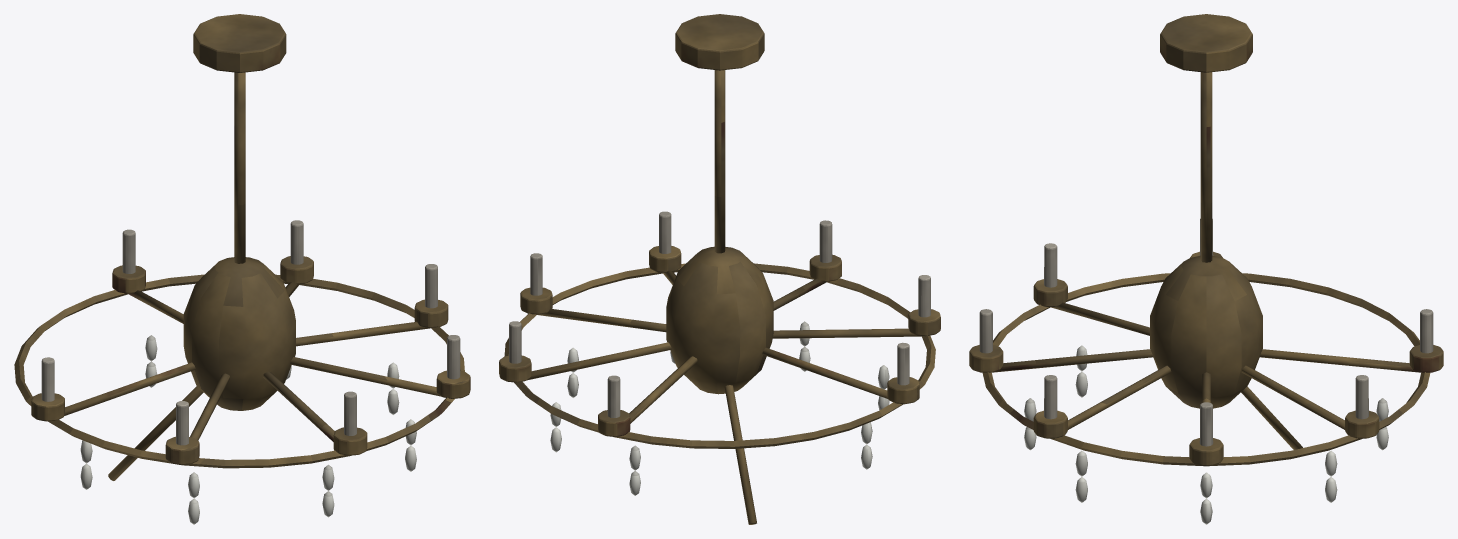
Rendered from U02_chandelier_v2.glb.
The picture shows the model from 3 angles, left to right: view 1: azimuth 30°, elevation 25°; view 2: azimuth 150°, elevation 25°; view 3: azimuth 270°, elevation 25°; orthographic projection. The views are drawn at different scales.
Parts seen in each view (by area): view 1: U02_chandelier_v2; view 2: U02_chandelier_v2; view 3: U02_chandelier_v2.
Part boxes in pixels (x1,y1,x2,y2): U02_chandelier_v2: (14,14,470,524); U02_chandelier_v2: (499,14,940,524); U02_chandelier_v2: (969,14,1443,524).
Size of the model in its own units: 0.9336 by 1 by 0.9357.
Materials: 3 (3 with a texture image).
